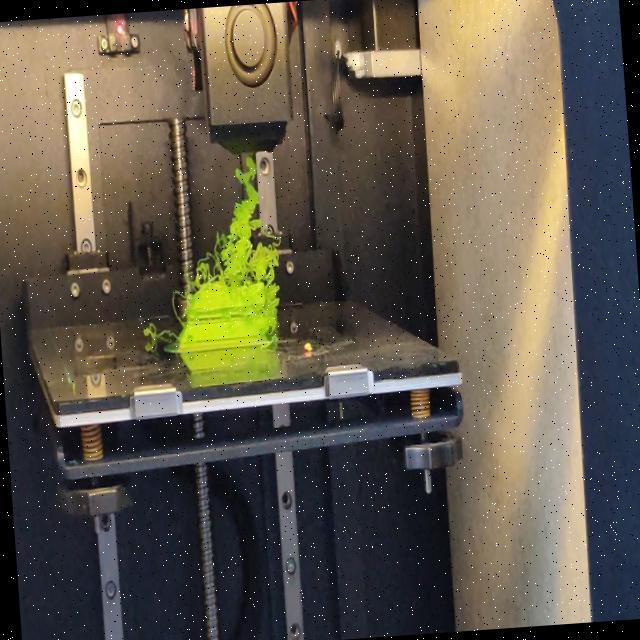spaghetti: (178, 156, 278, 294), (264, 292, 282, 346), (142, 321, 172, 345), (171, 289, 184, 329)
